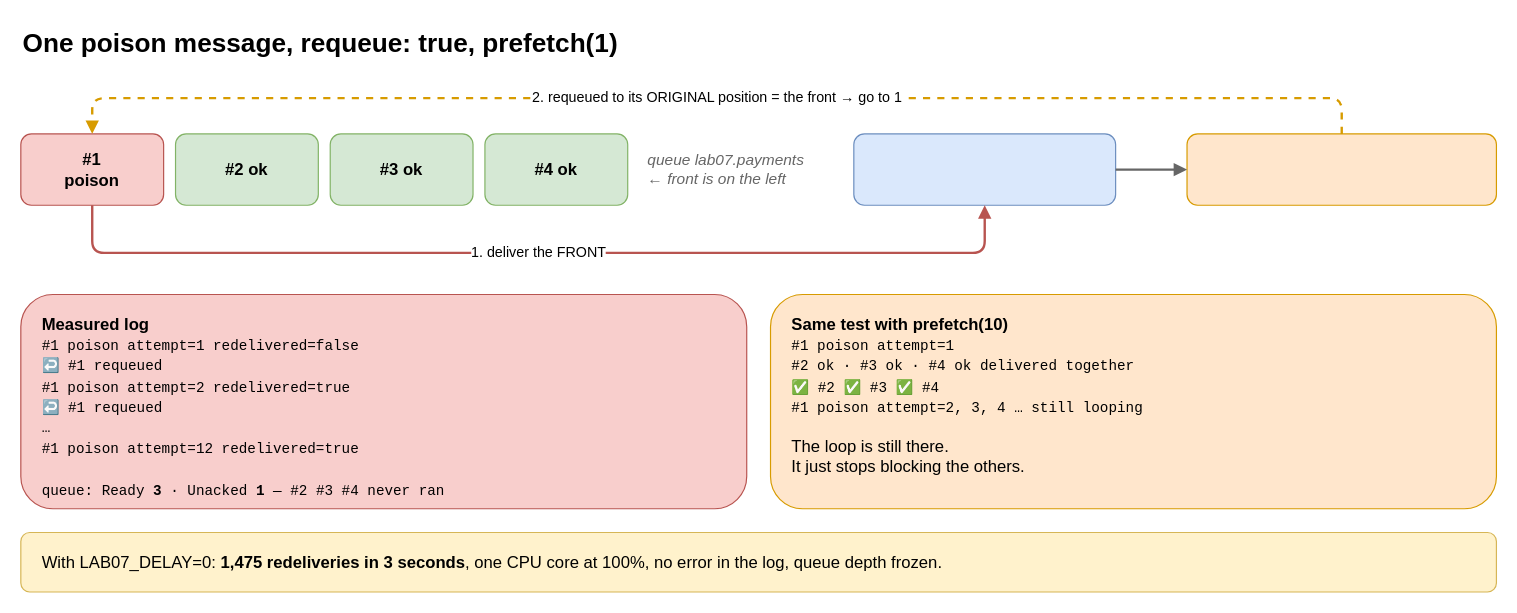
The diagram is 1517 pixels wide and 613 high, and some of its shapes have lost their labels. Here are the shapes that lost their labels. From the top down, the box of each, then its label:
(853, 133, 1116, 205): consumer prefetch(1)
(1186, 133, 1496, 205): handle() fails nack(msg, false, true)
